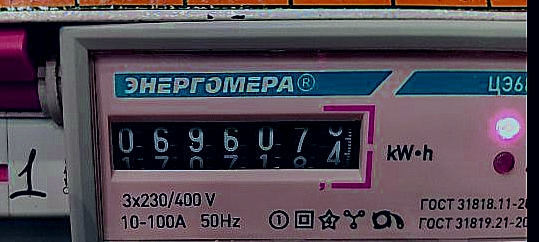0: (115, 124, 135, 154), (256, 121, 275, 151)
4: (323, 137, 342, 165)
6: (149, 123, 171, 153), (221, 123, 240, 151)
7: (291, 122, 308, 152)
9: (186, 124, 204, 153)
screen: (91, 97, 376, 187)
